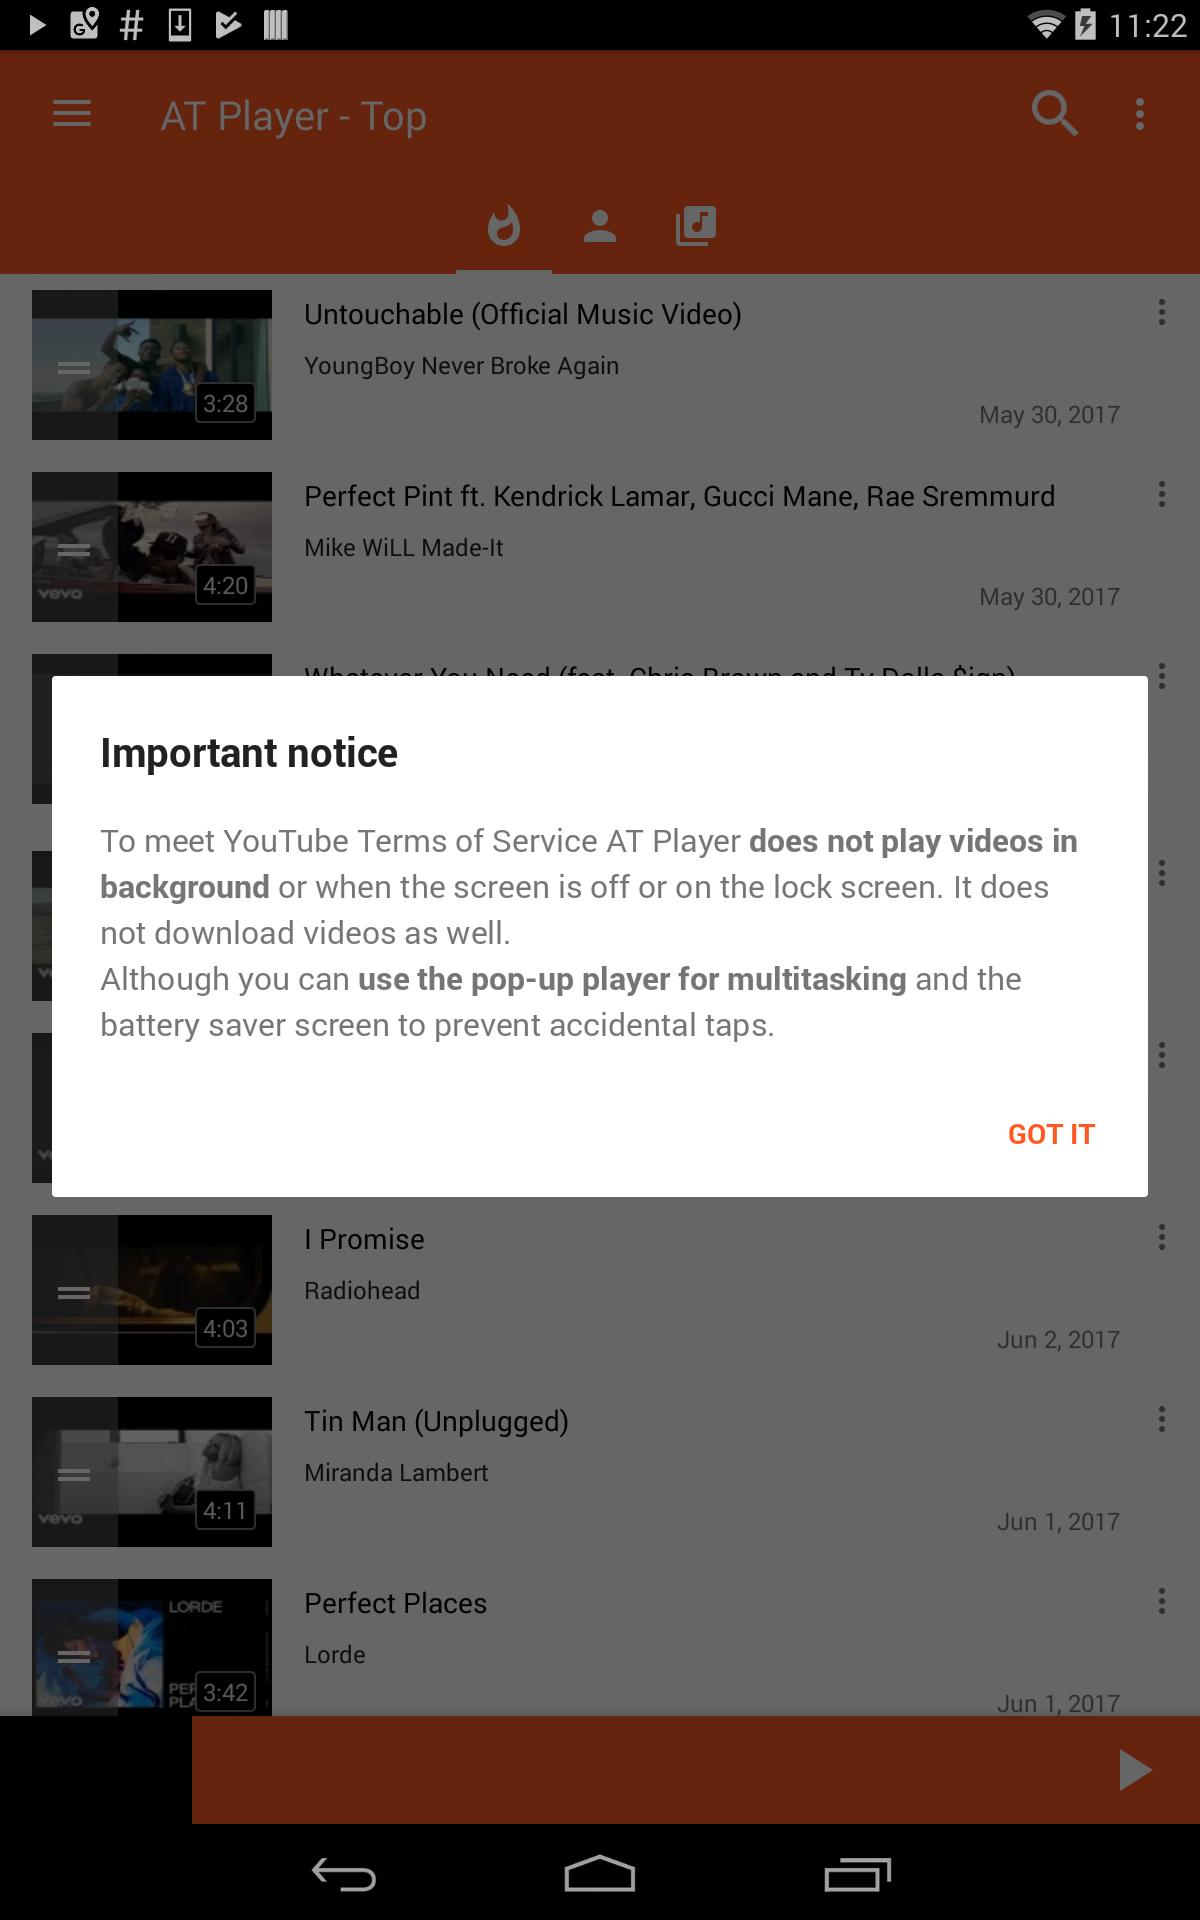android.view.View: (53, 676, 1147, 1197)
android.widget.FrameLayout: (19, 644, 1181, 1229), (53, 676, 1147, 1197)
android.widget.LinearLayout: (53, 676, 1147, 1197), (53, 676, 1147, 802)
android.widget.ScrollView: (53, 802, 1147, 1069)
android.widget.TextView: (53, 818, 1147, 1053), (100, 724, 1100, 778), (980, 1085, 1124, 1180)
